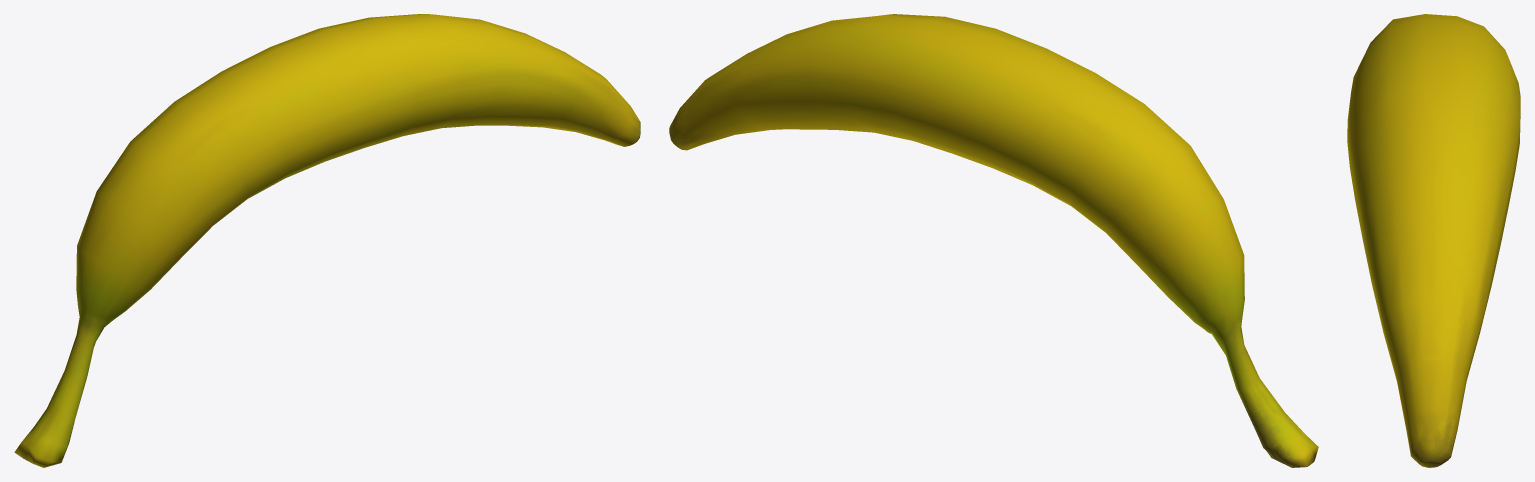
The model's file is banana_v3.gltf.
3 renders of one model, left to right at view 1: azimuth 30°, elevation 25°; view 2: azimuth 150°, elevation 25°; view 3: azimuth 270°, elevation 25°, orthographic. The views are drawn at different scales.
Visible parts, largest first — view 1: banana_low; view 2: banana_low; view 3: banana_low.
Part boxes in pixels (bbox=[...]): banana_low: bbox=[14, 14, 640, 467]; banana_low: bbox=[669, 14, 1318, 467]; banana_low: bbox=[1347, 14, 1520, 467].
Size of the model in its own units: 113 by 60.35 by 21.3.
Materials: 1 (1 with a texture image).
